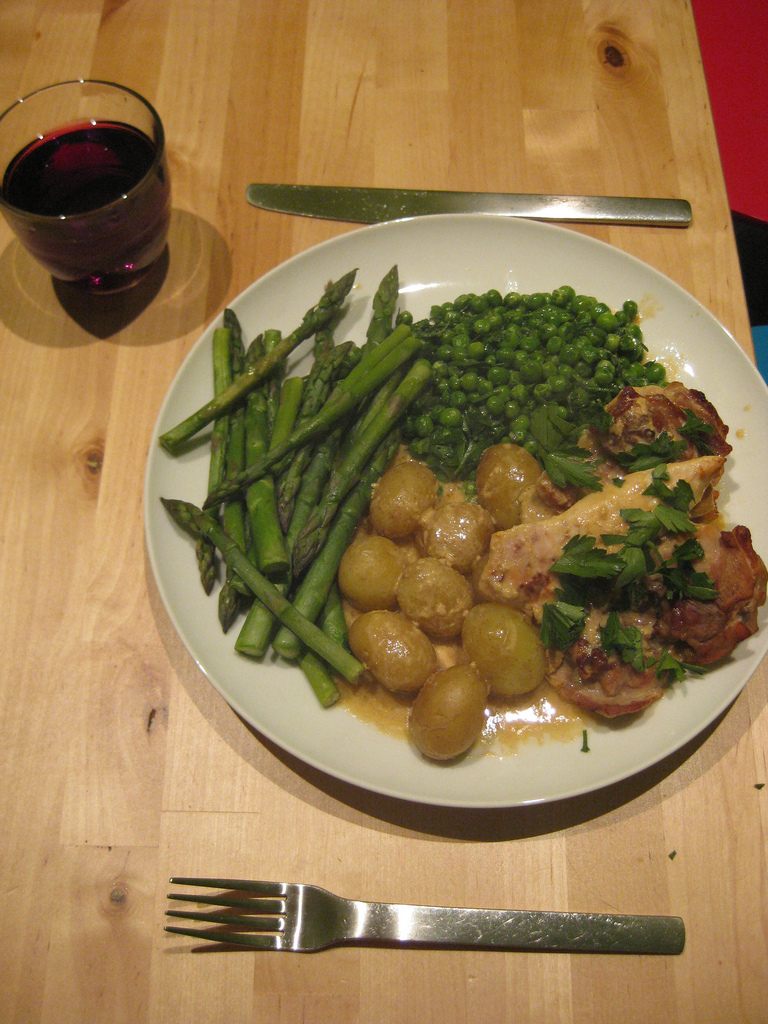boiled peas: (412, 291, 659, 437)
boiled potatoes: (460, 596, 557, 709), (404, 656, 495, 773), (365, 451, 449, 540), (395, 556, 481, 640), (354, 612, 435, 691), (335, 532, 420, 604), (477, 446, 549, 521), (426, 506, 490, 579)
